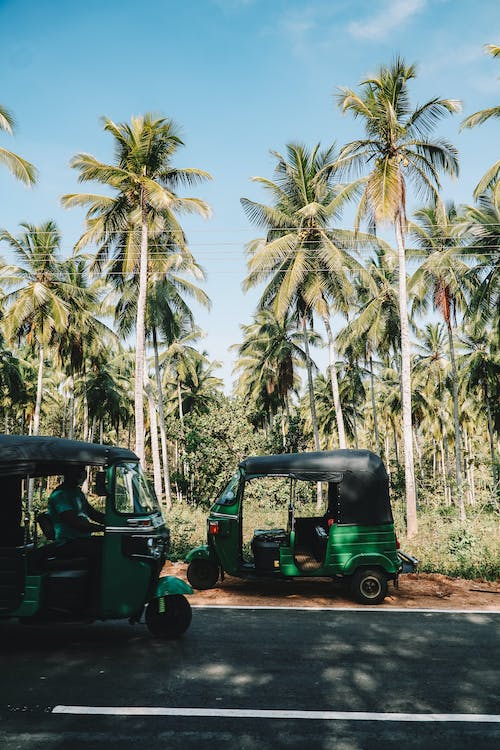threewheel: (2, 432, 192, 639), (183, 449, 406, 604)
